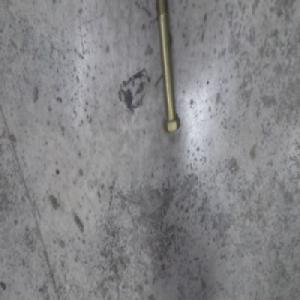Bolt: (155, 0, 181, 134)
